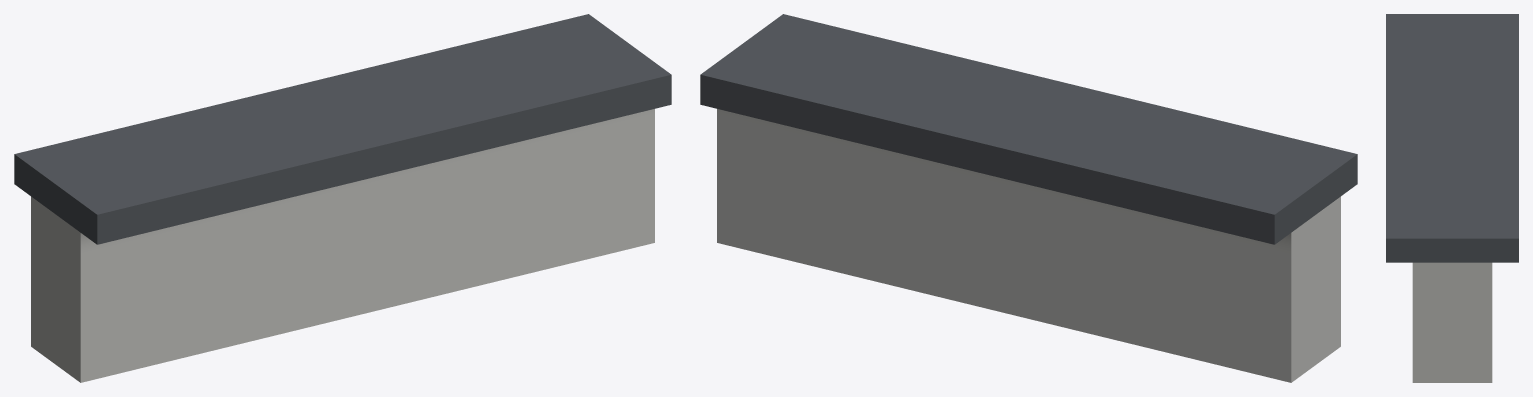
Rendered from c_wall3.glb.
3 views of the same model, side by side, from view 1: azimuth 30°, elevation 25°; view 2: azimuth 150°, elevation 25°; view 3: azimuth 270°, elevation 25° (orthographic). The views are drawn at different scales.
Visible parts, largest first — view 1: c_wall3_body; view 2: c_wall3_body; view 3: c_wall3_body.
Part boxes in pixels (box(x1,y1,x2,y2)): c_wall3_body: box(14, 14, 671, 382); c_wall3_body: box(700, 14, 1357, 382); c_wall3_body: box(1386, 14, 1518, 382).
Size of the model in its own units: 1.25 by 0.375 by 0.3125.
Materials: 1 (1 with a texture image).
